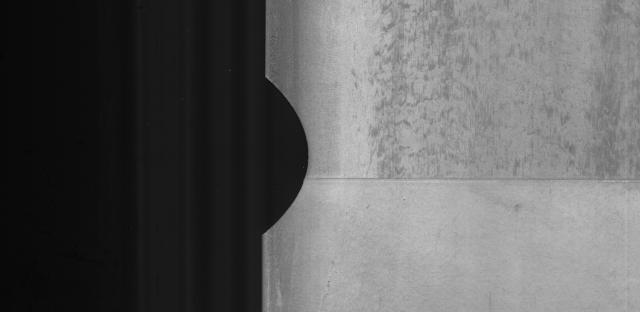crescent_gap: (237, 70, 319, 242)
welding_line: (294, 165, 640, 195)
